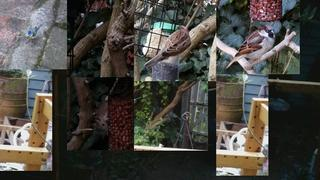blue tit: (25, 24, 43, 47)
mouse: (93, 101, 109, 131)
sparrow: (225, 24, 276, 70), (144, 24, 192, 70)
